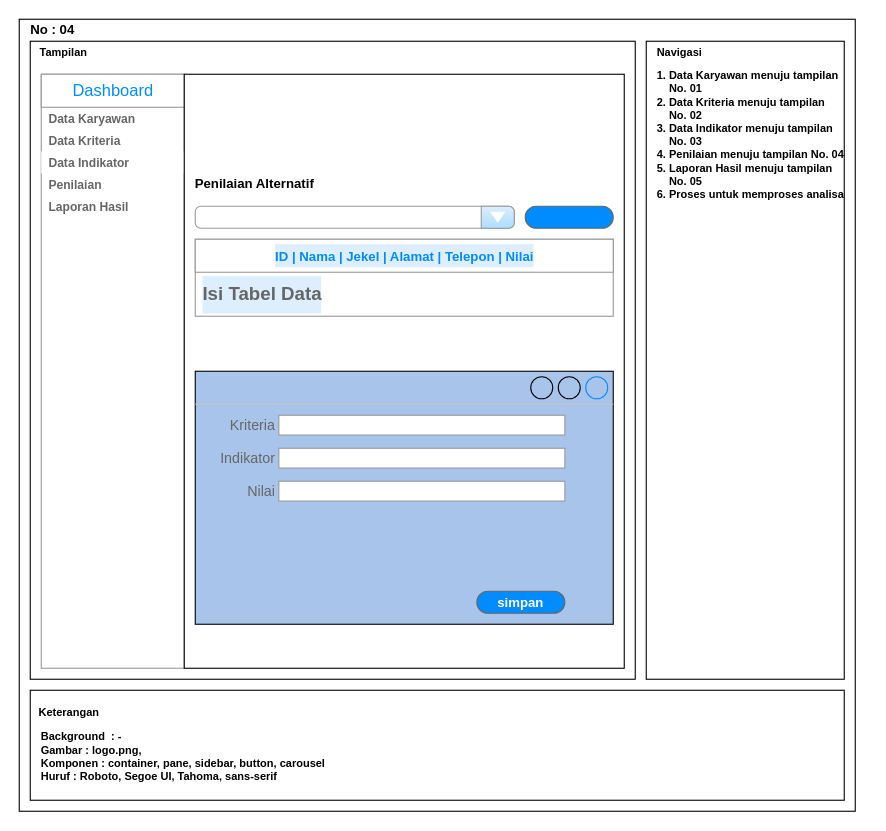
This 886x831 diagram has some shape labels left out. The box of each missing label's shape, as (x1, y1, x2, y2) in pixels:
Form Pengolah Data: (194, 370, 613, 624)
Pilih Periode: (194, 205, 514, 228)
proses: (524, 205, 613, 228)
